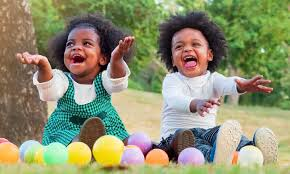child: (152, 9, 284, 166), (21, 12, 143, 157)
